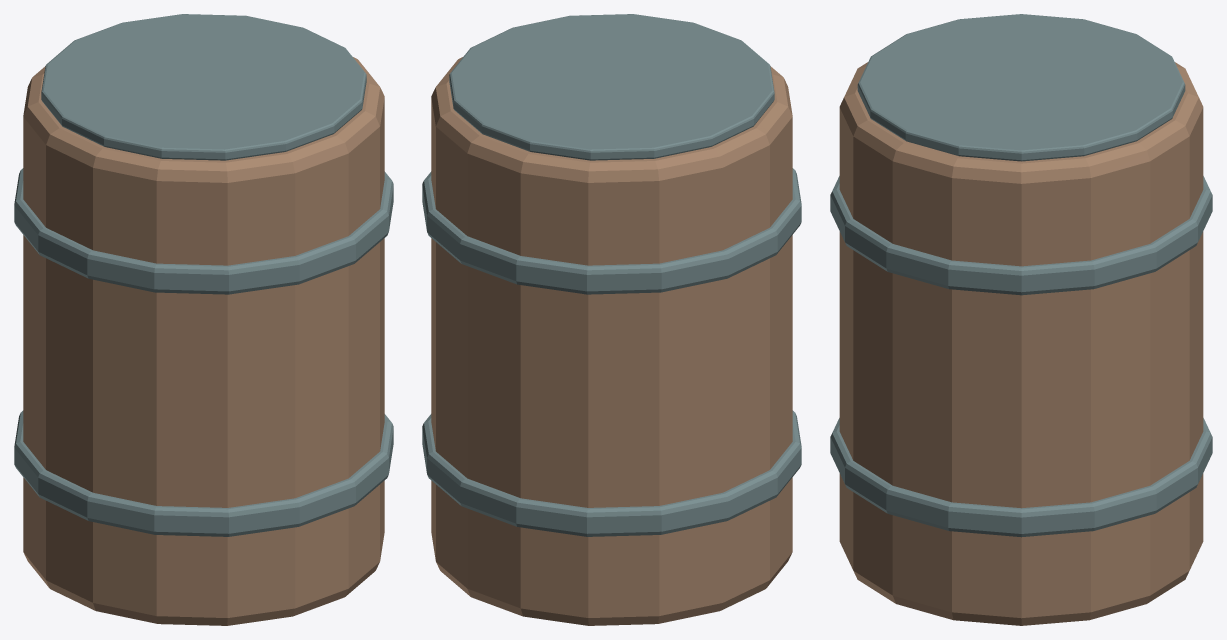
The model's file is fuel_drum.glb.
3 renders of one model, left to right at view 1: azimuth 30°, elevation 25°; view 2: azimuth 150°, elevation 25°; view 3: azimuth 270°, elevation 25°, orthographic.
Parts seen in each view (by area): view 1: Surface_WorldRust, Surface_WorldMetal; view 2: Surface_WorldRust, Surface_WorldMetal; view 3: Surface_WorldRust, Surface_WorldMetal.
Part boxes in pixels (x1=…): Surface_WorldRust: x1=23, y1=57, x2=384, y2=625; Surface_WorldMetal: x1=14, y1=14, x2=393, y2=536; Surface_WorldRust: x1=431, y1=57, x2=792, y2=625; Surface_WorldMetal: x1=422, y1=14, x2=801, y2=536; Surface_WorldRust: x1=839, y1=62, x2=1203, y2=625; Surface_WorldMetal: x1=830, y1=14, x2=1212, y2=537.
Size of the model in its own units: 0.63 by 0.86 by 0.63.
